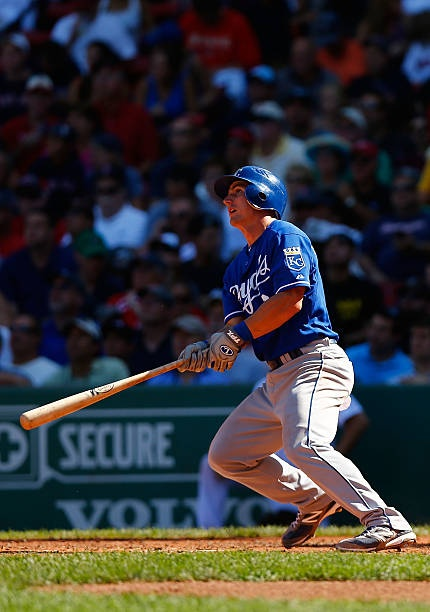bita: (18, 339, 221, 429)
